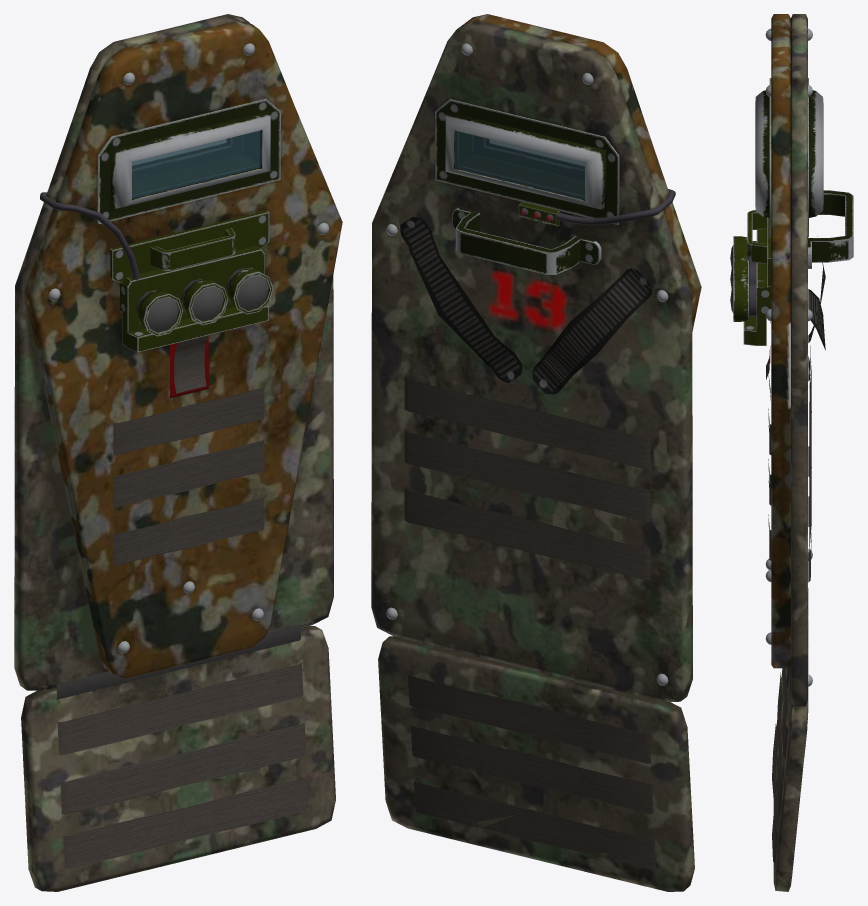
Rendered from shield.glb.
3 renders of one model, left to right at view 1: azimuth 30°, elevation 25°; view 2: azimuth 150°, elevation 25°; view 3: azimuth 270°, elevation 25°, orthographic. The views are drawn at different scales.
Parts seen in each view (by area): view 1: Cube.001_shield_0, Cube.001_details_0, Cube.001_lights_0; view 2: Cube.001_shield_0, Cube.001_details_0, Cube.001_lights_0; view 3: Cube.001_shield_0, Cube.001_details_0, Cube.001_lights_0.
Part boxes in pixels (x1,y1,x2,y2): Cube.001_shield_0: [14, 14, 342, 891]; Cube.001_details_0: [48, 43, 329, 868]; Cube.001_lights_0: [40, 192, 273, 352]; Cube.001_shield_0: [371, 14, 701, 891]; Cube.001_details_0: [386, 43, 668, 870]; Cube.001_lights_0: [518, 189, 675, 226]; Cube.001_shield_0: [771, 14, 808, 891]; Cube.001_details_0: [755, 28, 853, 863]; Cube.001_lights_0: [730, 210, 771, 345].
Size of the model in its own units: 0.6238 by 1.57 by 0.2224.
Materials: 3 (3 with a texture image).
